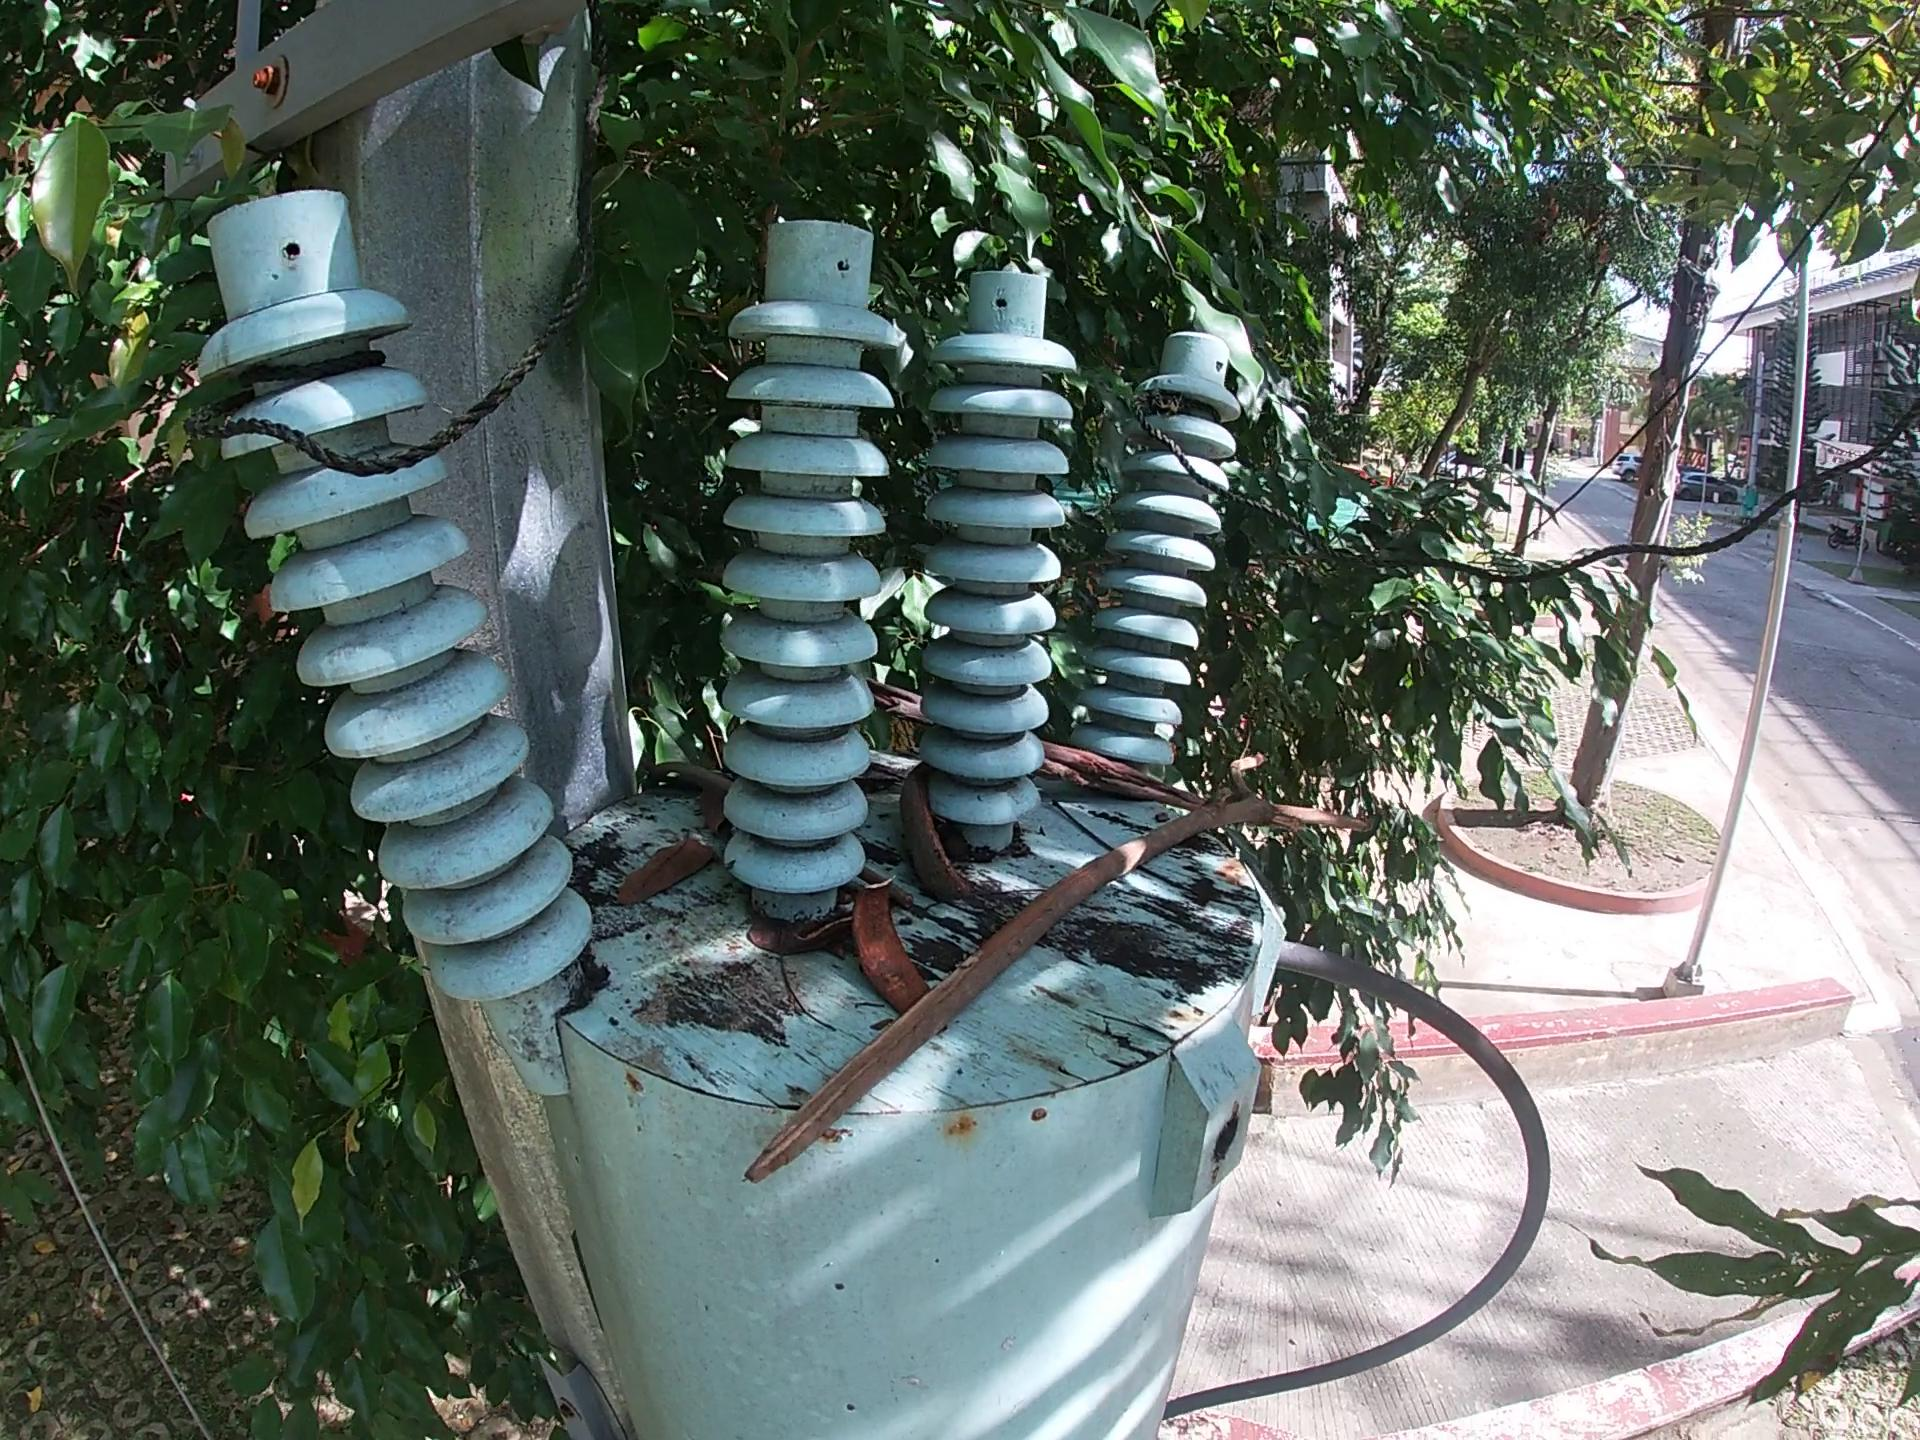leaf: (612, 826, 723, 911), (745, 905, 819, 954), (698, 787, 736, 838)
mahogany fruit: (850, 874, 934, 1016), (897, 756, 972, 908)
tree branch: (739, 750, 1376, 1190), (862, 672, 1209, 811), (633, 761, 736, 794), (857, 868, 921, 911)
